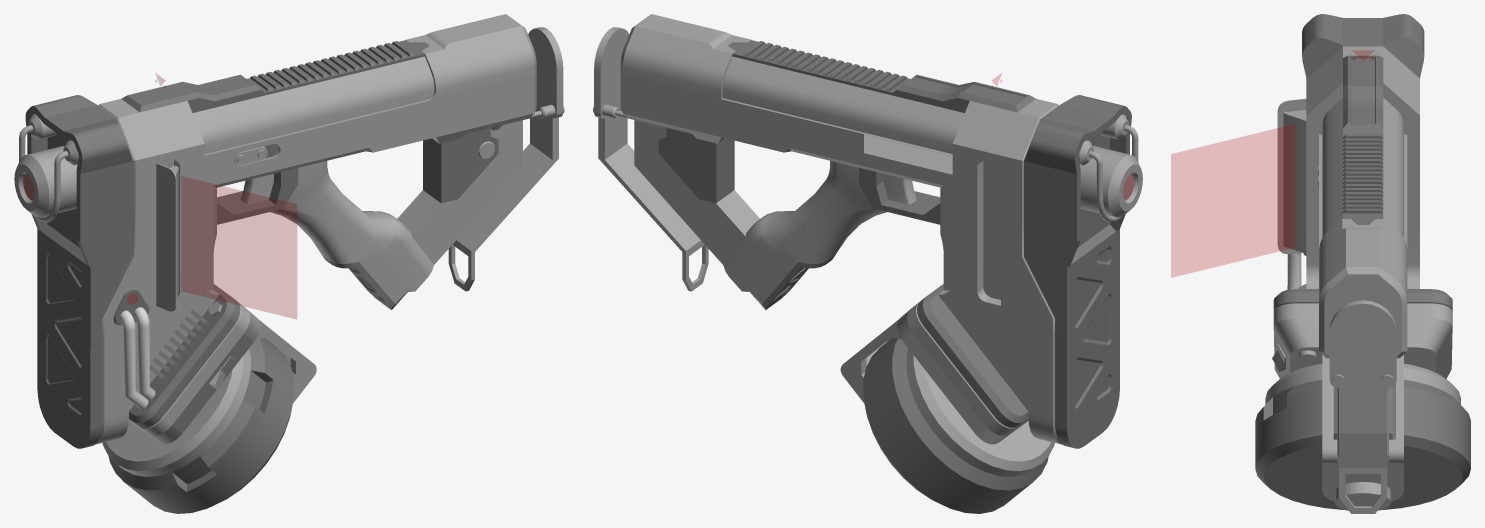
Rendered from Gun_01.fbx.
3 views of the same model, side by side, from view 1: azimuth 30°, elevation 25°; view 2: azimuth 150°, elevation 25°; view 3: azimuth 270°, elevation 25° (orthographic). The views are drawn at different scales.
Visible parts, largest first — view 1: pCube99, pCube38, pPlane2, polySurface39, polySurface28, polySurface44, pCylinder49, polySurface29, polySurface26, polySurface30, pCylinder110, polySurface46 (+11 smaller); view 2: pCube99, pCube38, polySurface39, polySurface28, polySurface44, pCylinder49, polySurface29, pCylinder110, polySurface30, polySurface26, polySurface46, pCylinder124 (+4 smaller); view 3: pCube99, pPlane2, polySurface28, pCylinder49, pCylinder110, pCube38, polySurface26, pCylinder36, polySurface27, polySurface29, polySurface5, polySurface30 (+3 smaller).
Part boxes in pixels (x1,y1,x2,y2): pCube99: (95,14,536,444); pCube38: (25,95,133,448); pPlane2: (181,176,296,318); polySurface39: (270,161,457,305); polySurface28: (108,338,294,513); polySurface44: (41,134,86,424); pCylinder49: (448,27,563,291); polySurface29: (102,349,250,476); polySurface26: (121,40,429,112); polySurface30: (129,284,240,427); pCylinder110: (128,302,316,444); polySurface46: (423,128,498,203); pCube99: (620,14,1061,444); pCube38: (1024,95,1131,448); polySurface39: (699,160,886,305); polySurface28: (863,338,1048,513); polySurface44: (1070,134,1116,424); pCylinder49: (594,27,708,291); polySurface29: (906,349,1054,476); pCylinder110: (840,302,1028,444); polySurface30: (917,284,1028,427); polySurface26: (728,40,1035,112); polySurface46: (658,128,734,203); pCylinder124: (1080,146,1142,217); pCube99: (1306,46,1419,358); pPlane2: (1171,124,1294,277); polySurface28: (1255,379,1470,509); pCylinder49: (1329,300,1396,513); pCylinder110: (1273,303,1452,501); pCube38: (1302,14,1424,78); polySurface26: (1343,55,1383,224); pCylinder36: (1283,110,1306,253); polySurface27: (1343,134,1383,213); polySurface29: (1265,363,1460,404); polySurface5: (1277,98,1306,254); polySurface30: (1273,289,1452,310).
Bounding box in the file's own units: 9.96 × 7.78 × 4.6.
